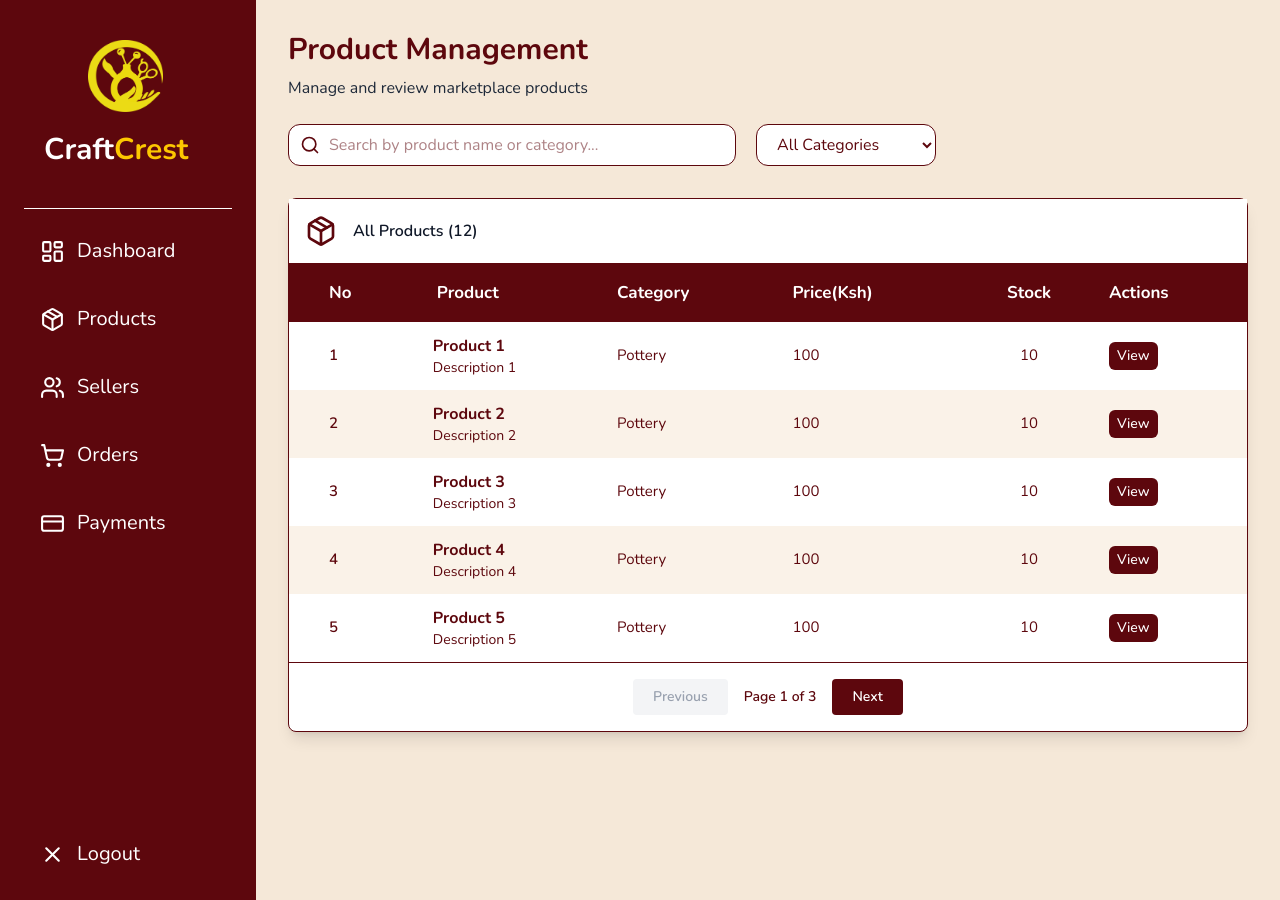
Test: ProductManagement › Pagination › navigates to next page
This screenshot has width=1280, height=900.
Click the button "Next" at (868,696), box x1=832 y1=678 x2=903 y2=714
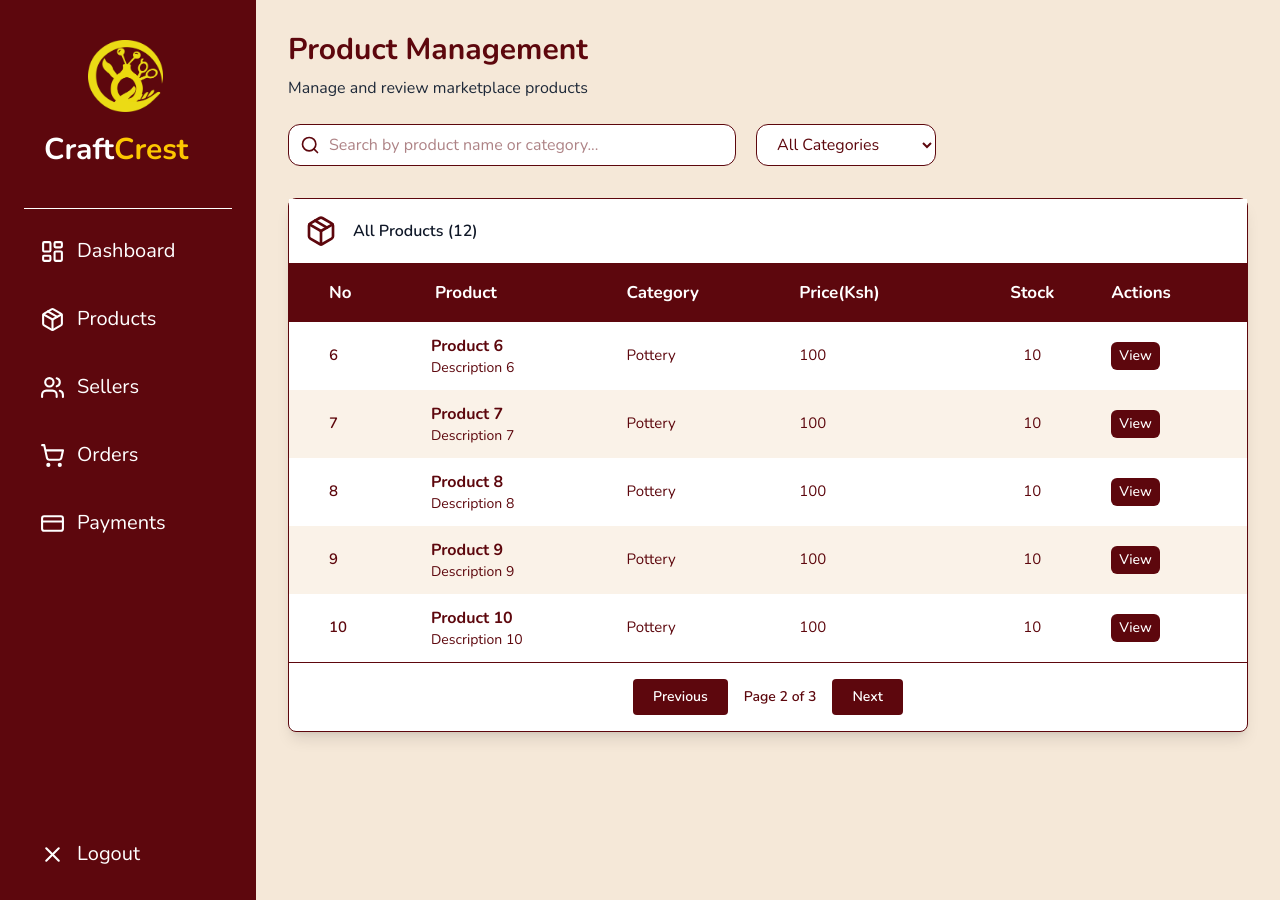
Expected: the text "Product 6" is shown 5 times, x1=431 y1=334 x2=503 y2=356; x1=431 y1=402 x2=503 y2=424; x1=431 y1=470 x2=503 y2=492; x1=431 y1=538 x2=503 y2=560; x1=431 y1=606 x2=513 y2=628
Expected: the text "Page 2 of 3" is shown, x1=744 y1=686 x2=816 y2=706
Expected: the text "Product 6" is shown, x1=431 y1=334 x2=503 y2=356
